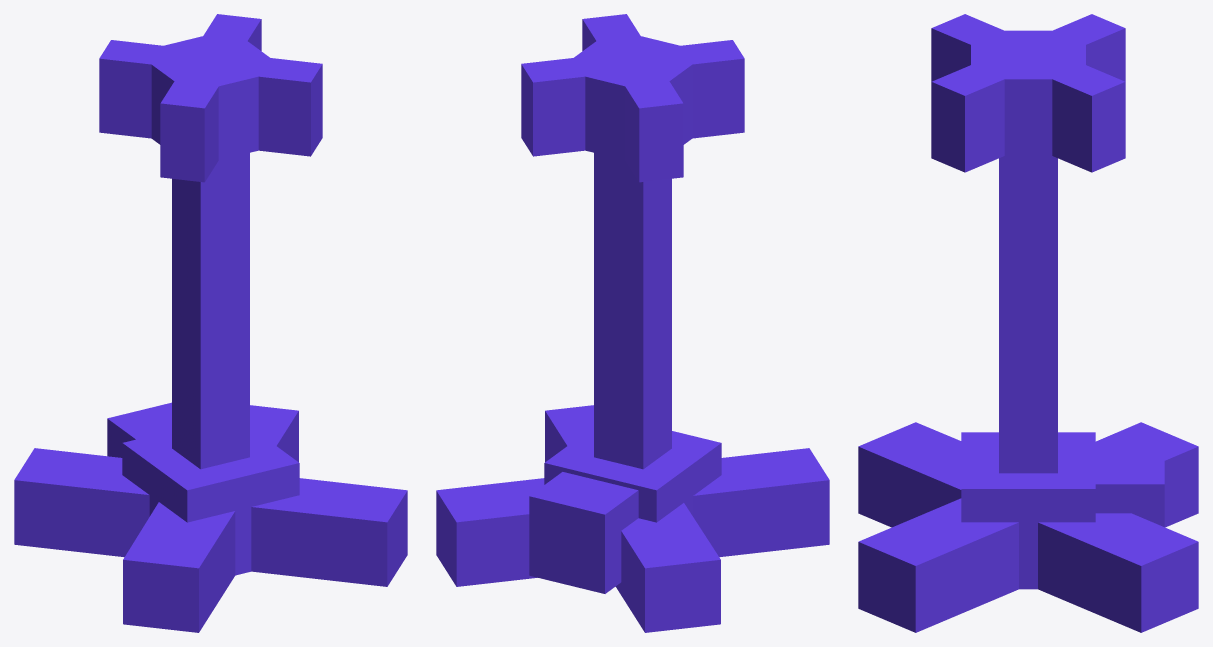
Rendered from FabricatorHitbox.fbx.
The picture shows the model from 3 angles, left to right: view 1: azimuth 30°, elevation 25°; view 2: azimuth 150°, elevation 25°; view 3: azimuth 270°, elevation 25°; orthographic projection. The views are drawn at different scales.
Parts seen in each view (by area): view 1: Cube.010; view 2: Cube.010; view 3: Cube.010.
Boxes of the visible parts, x1,y1,x2,y2 form: Cube.010: (14,14,407,632); Cube.010: (436,14,829,632); Cube.010: (858,14,1198,632).
Size of the model in its own units: 121 by 199 by 121.
